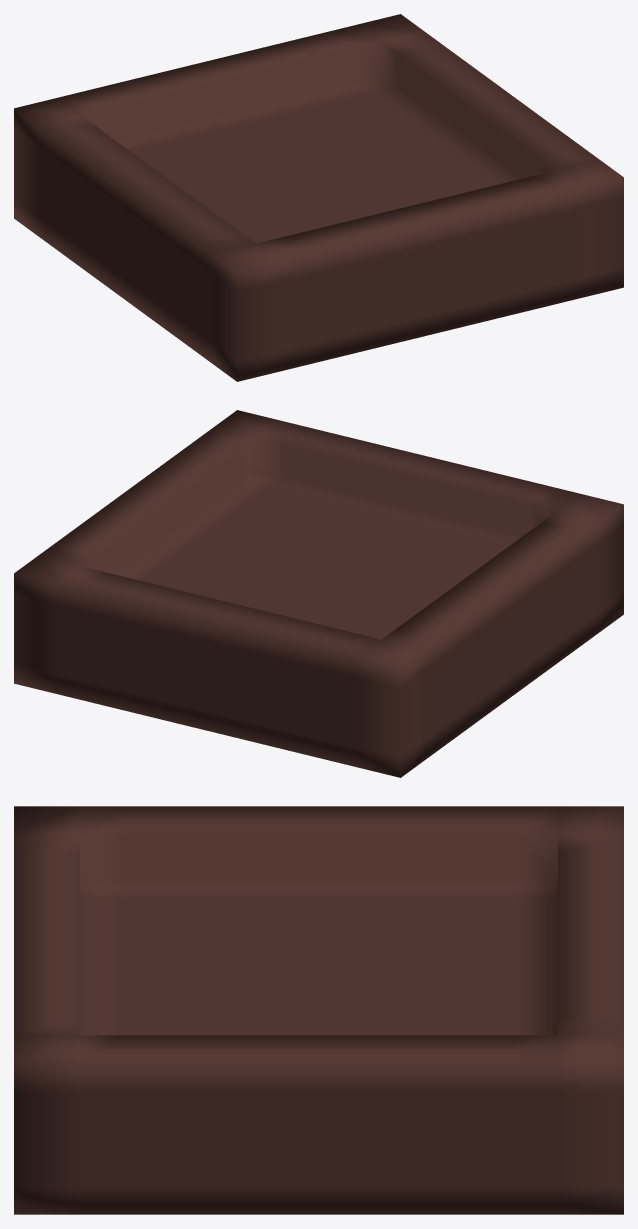
The model's file is Rack.fbx.
3 views of the same model, one above another, from view 1: azimuth 30°, elevation 25°; view 2: azimuth 150°, elevation 25°; view 3: azimuth 270°, elevation 25° (orthographic). The views are drawn at different scales.
Parts seen in each view (by area): view 1: Cube.001; view 2: Cube.001; view 3: Cube.001.
Boxes of the visible parts, x1,y1,x2,y2 form: Cube.001: (14,14,623,381); Cube.001: (14,410,623,777); Cube.001: (14,806,623,1214).
Size of the model in its own units: 73.47 by 73.47 by 20.
